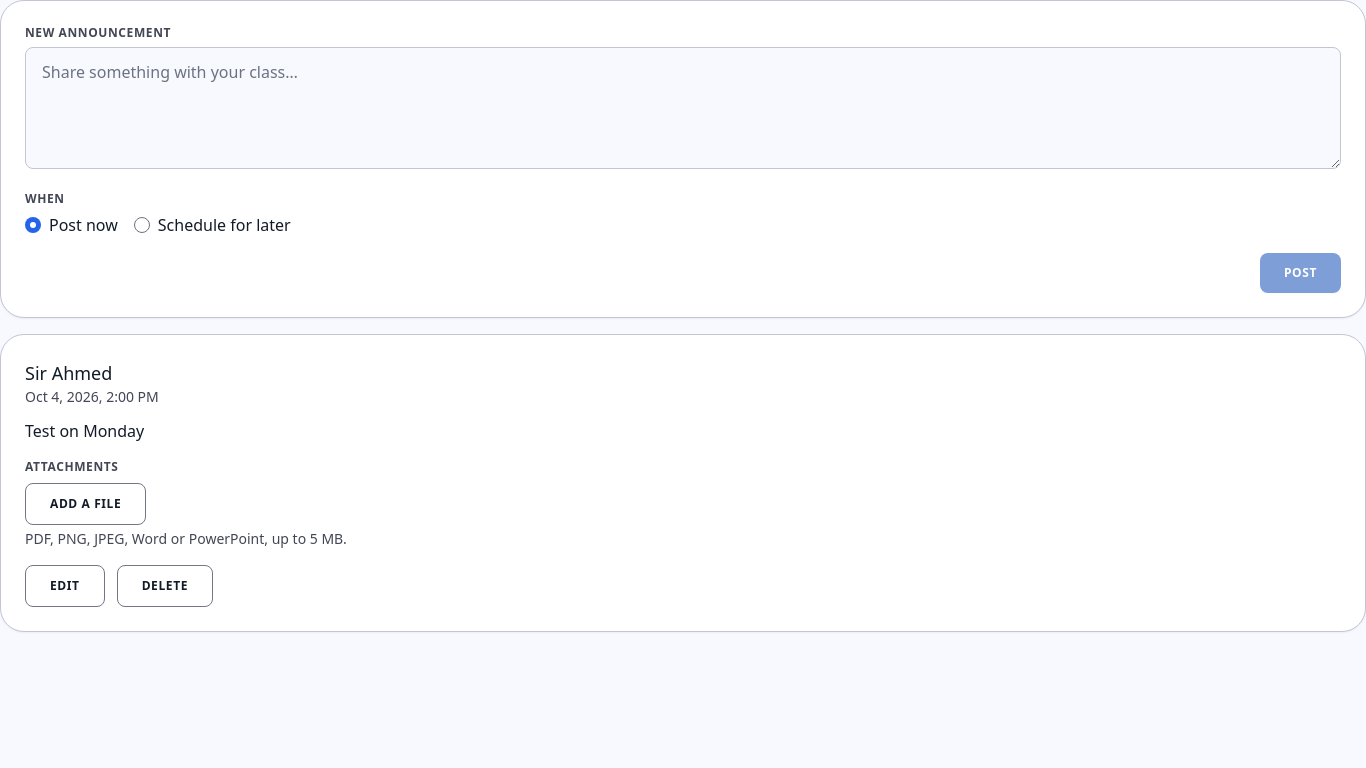
Scenario: the owner › schedules with an ISO instant and shows the badge
The image size is (1366, 768).
Type "Later" into the text box labelled "New announcement" at [683, 108], box top-left (25, 47), bottom-right (1341, 169)
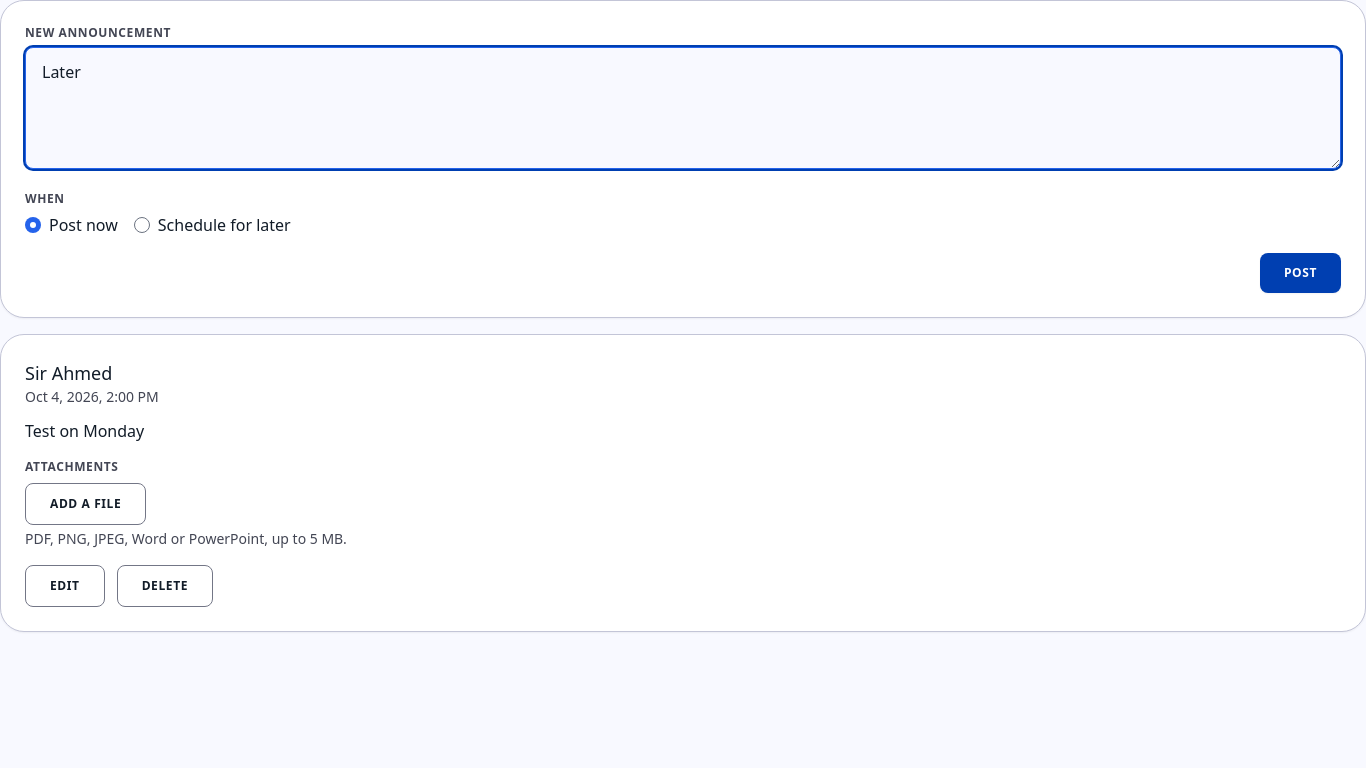
Click the radio button labelled "Schedule for later" at [142, 225], box top-left (134, 217), bottom-right (150, 233)
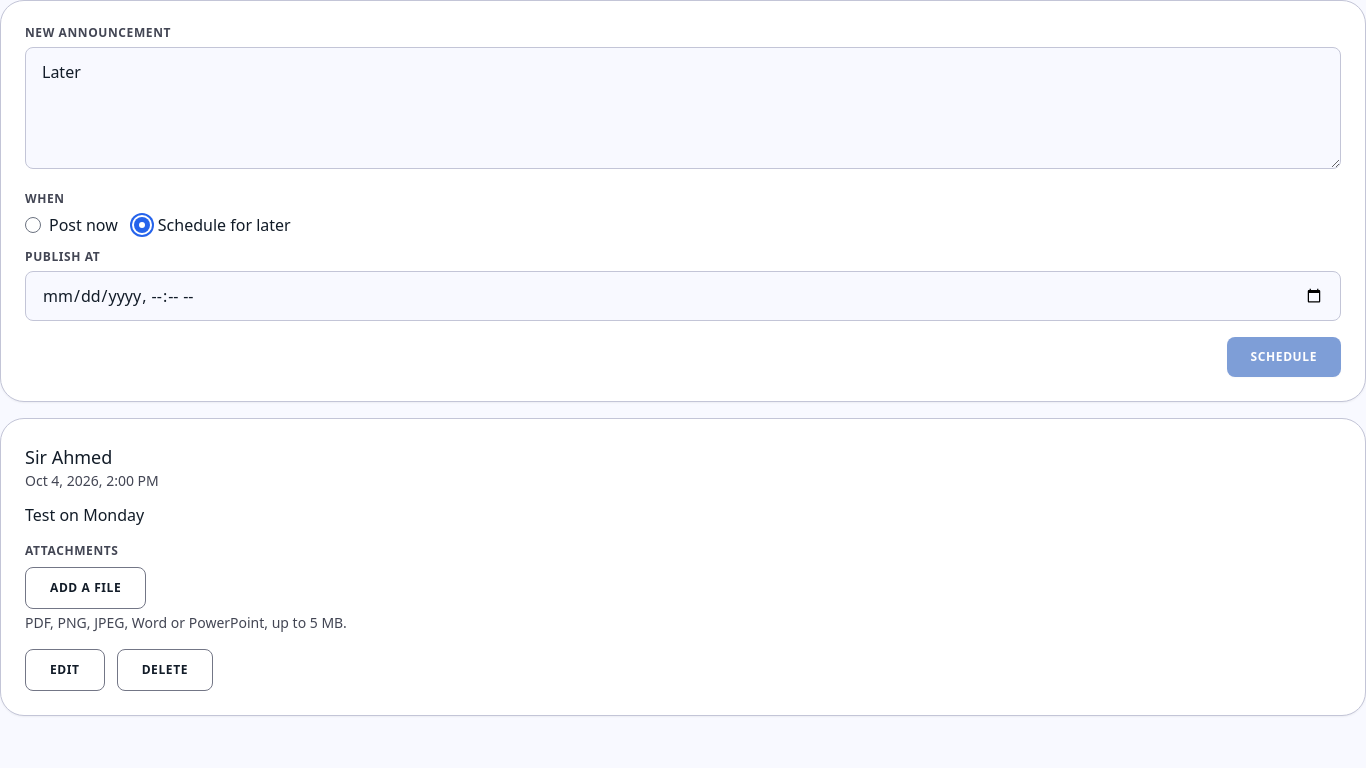
Type "2030-01-01T10:00" into the field labelled "Publish at" at [683, 296], box top-left (25, 271), bottom-right (1341, 321)
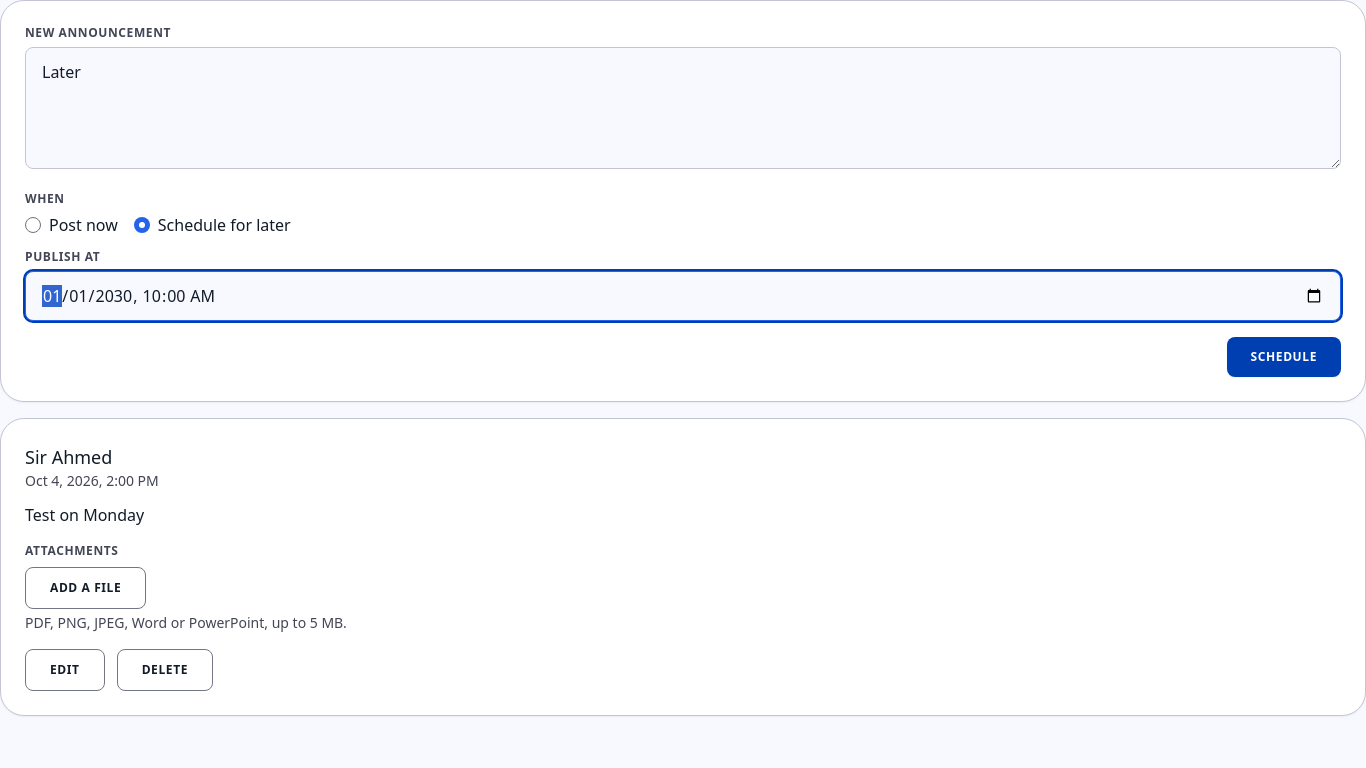
Click the button "Schedule" at [1284, 357], box top-left (1227, 337), bottom-right (1341, 377)
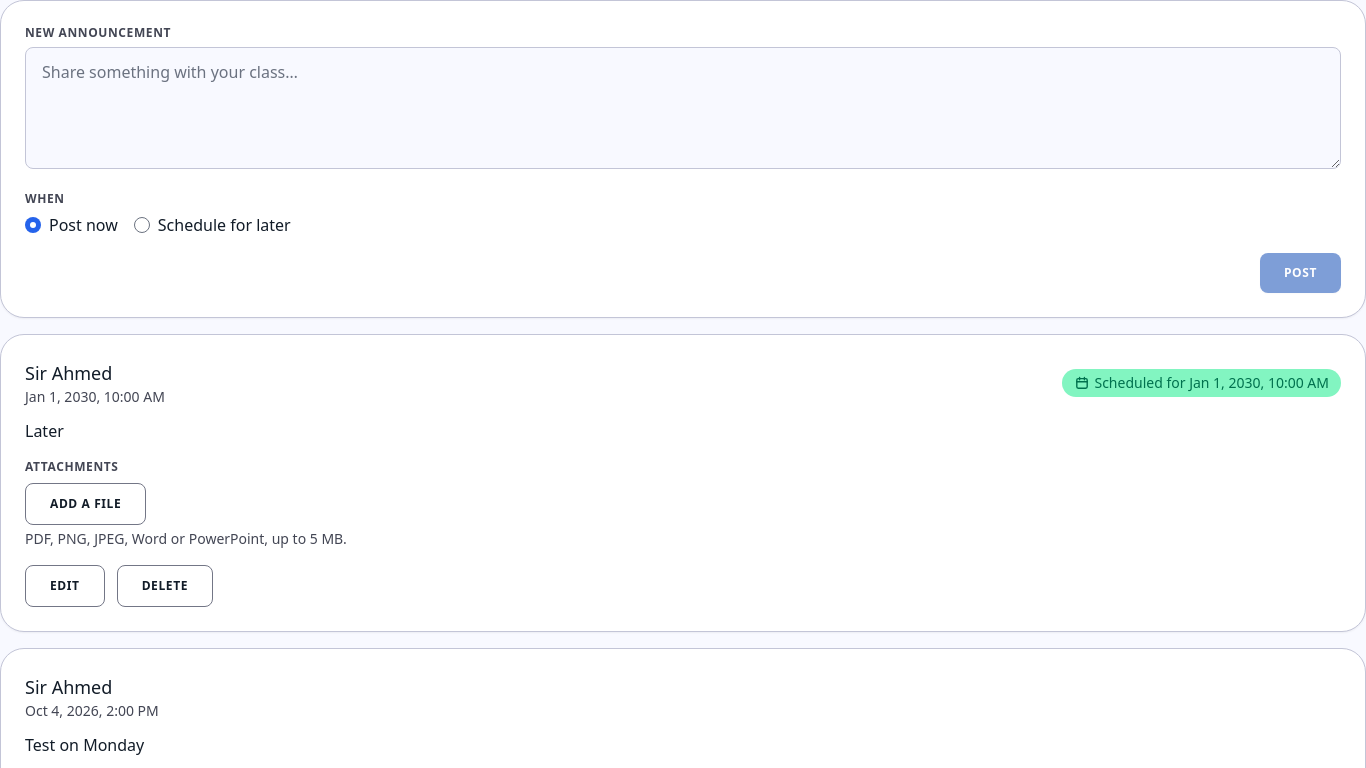
Expected: the text "Later" is shown, top-left (25, 420), bottom-right (64, 442)
Expected: the text "Scheduled for Jan 1, 2030, 10:00 AM" is shown, top-left (1062, 369), bottom-right (1341, 397)
